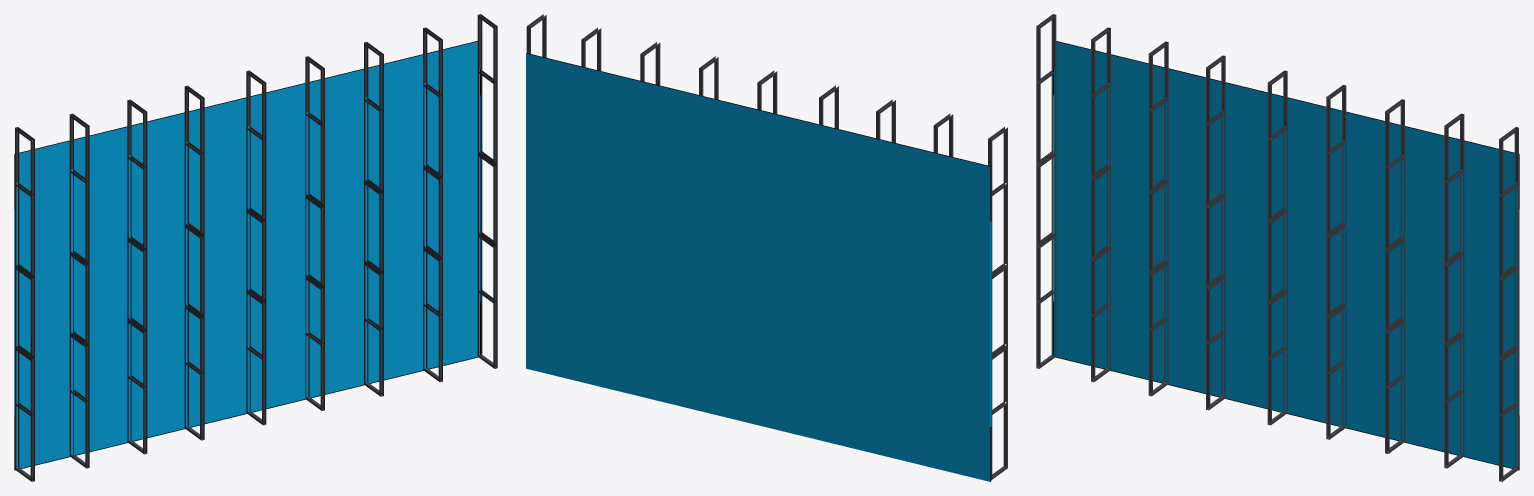
Rendered from large_display_10.55x6.84.fbx.
The picture shows the model from 3 angles, left to right: view 1: azimuth 30°, elevation 25°; view 2: azimuth 150°, elevation 25°; view 3: azimuth 330°, elevation 25°; orthographic projection.
Parts seen in each view (by area): view 1: large_display_10.55x6.84, large_lcd_support; view 2: large_display_10.55x6.84, large_lcd_support; view 3: large_display_10.55x6.84, large_lcd_support.
Boxes of the visible parts, x1,y1,x2,y2 form: large_display_10.55x6.84: [14, 41, 480, 470]; large_lcd_support: [15, 14, 497, 481]; large_display_10.55x6.84: [526, 53, 991, 481]; large_lcd_support: [526, 14, 1007, 479]; large_display_10.55x6.84: [1053, 41, 1519, 470]; large_lcd_support: [1036, 14, 1518, 481].
Bounding box in the file's own units: 1055 × 742 × 69.
